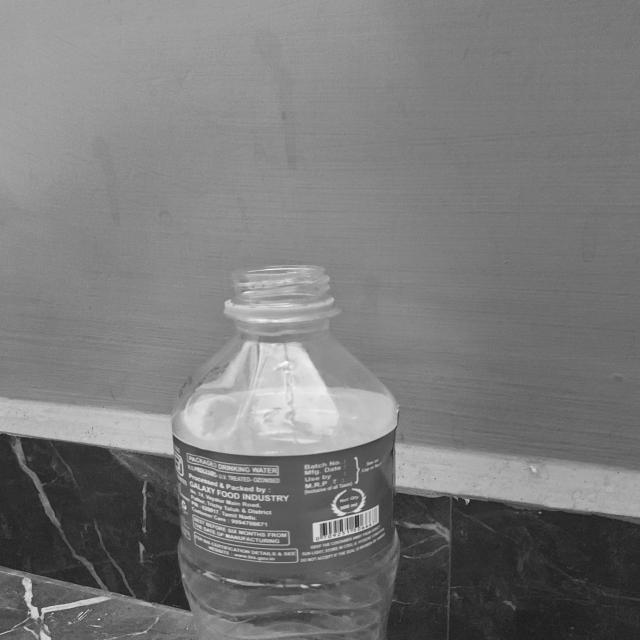open-cap: (222, 264, 342, 318)
